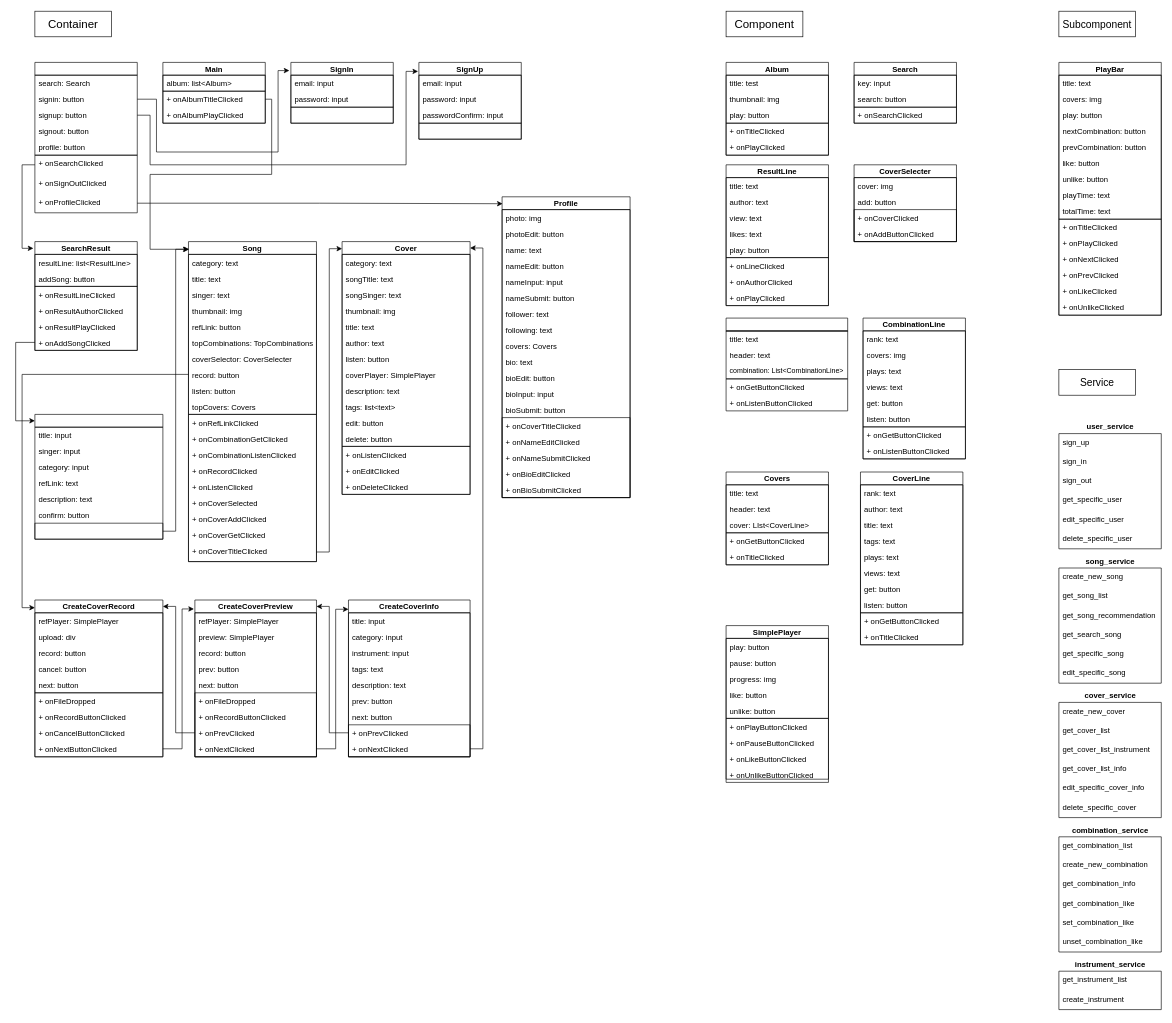
The diagram is 1172 pixels wide and 1023 high, and some of its shapes have lost their labels. Each missing label, with the centre of its shape:
"+ onConfirmClicked" belongs at [98,531].
"+ onSignInClicked" belongs at [341,115].
"+ onSignUpClicked" belongs at [469,131].
"CreateSong" belongs at [98,420].
"Header" belongs at [85,68].
"TopCombinations" belongs at [786,324].
